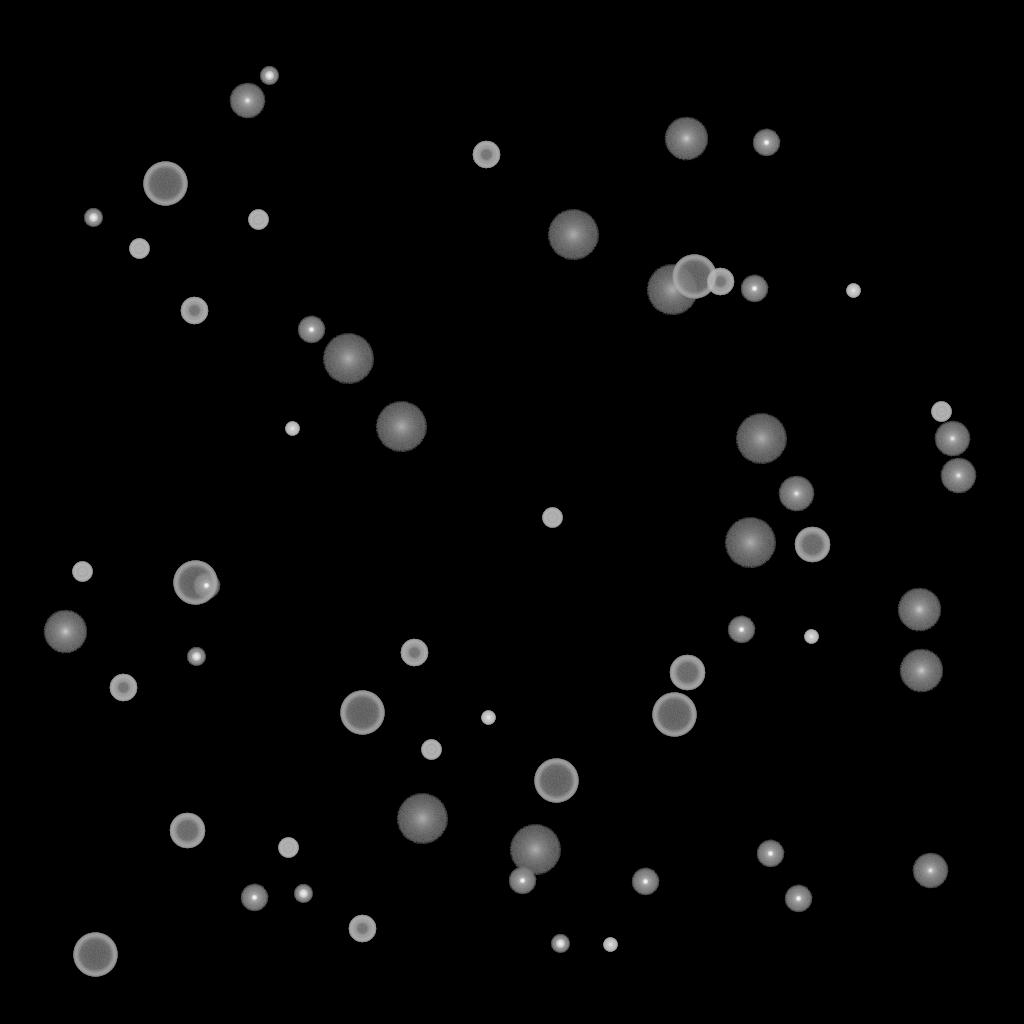depth:-10: (740, 275, 768, 303), (192, 572, 220, 600), (508, 867, 536, 895), (240, 884, 268, 912), (752, 129, 780, 157), (784, 885, 812, 913), (297, 316, 325, 344), (756, 840, 784, 868), (631, 868, 659, 896), (727, 616, 755, 644)
depth:-20: (551, 935, 569, 953), (84, 209, 102, 227), (294, 885, 312, 903), (187, 648, 205, 666), (260, 67, 278, 85)
depth:-30: (846, 284, 860, 298), (603, 938, 617, 952), (481, 711, 495, 725), (804, 630, 818, 644), (285, 422, 299, 436)
depth:-40: (542, 508, 562, 528), (931, 402, 951, 422), (129, 239, 149, 259), (278, 838, 298, 858), (72, 562, 92, 582), (421, 740, 441, 760), (248, 210, 268, 230)
depth:-50: (472, 141, 500, 169), (400, 639, 428, 667), (706, 268, 734, 296), (109, 674, 137, 702), (348, 915, 376, 943), (180, 297, 208, 325)
depth:-60: (669, 655, 705, 691), (169, 813, 205, 849), (794, 527, 830, 563)
depth:-70: (143, 162, 187, 206), (340, 691, 384, 735), (672, 255, 716, 299), (652, 693, 696, 737), (534, 759, 578, 803), (173, 561, 217, 605), (73, 933, 117, 977)
depth:0: (934, 421, 970, 457), (940, 458, 976, 494), (912, 853, 948, 889), (229, 83, 265, 119), (778, 476, 814, 512)
depth:10: (43, 610, 87, 654), (897, 588, 941, 632), (664, 117, 708, 161), (899, 649, 943, 693)
depth:20: (724, 518, 776, 568), (375, 402, 427, 452), (396, 794, 448, 844), (646, 265, 698, 315), (509, 825, 561, 875), (547, 210, 599, 260), (735, 414, 787, 464), (322, 334, 374, 384)
